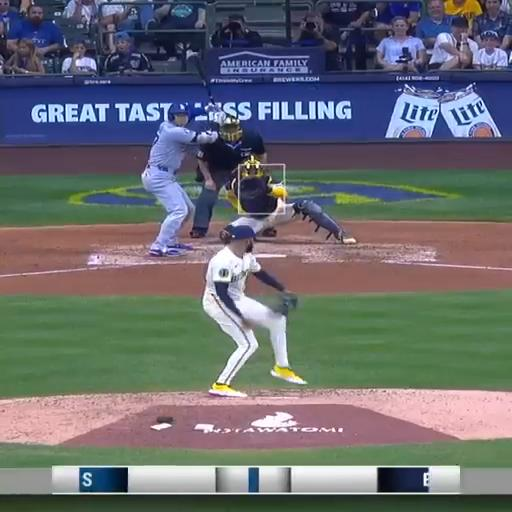bat: (189, 55, 214, 103)
